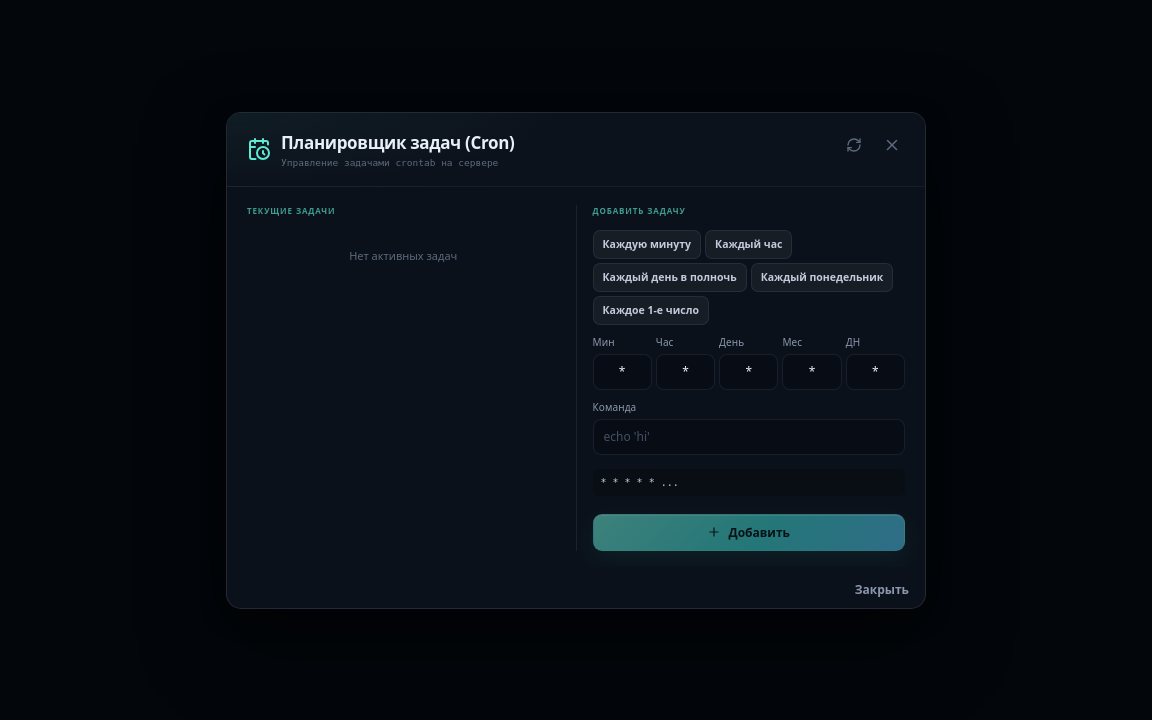
Test case: CronModal › добавляет задачу с расписанием и очищает форму
Step 1. Type "df -h" into the field with placeholder "echo 'hi'" → coordinates (749, 436), box [592,418,905,454]
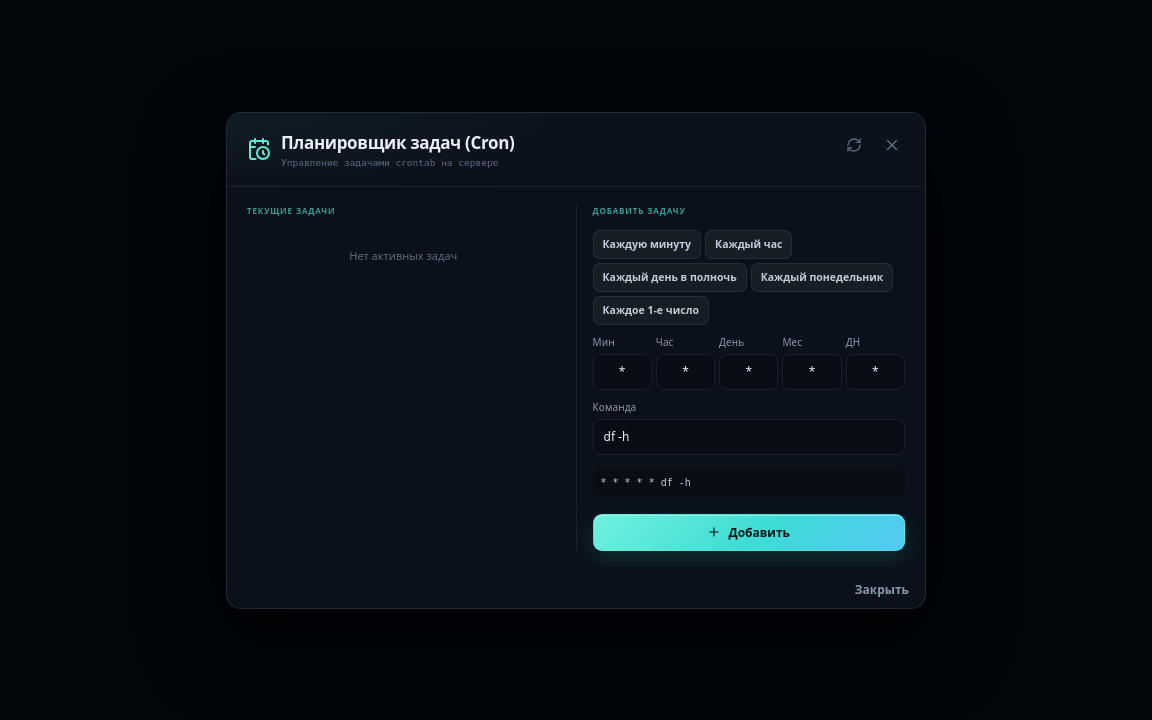
Step 2. Click the button "Каждый час" → coordinates (749, 244), box [705,230,792,258]
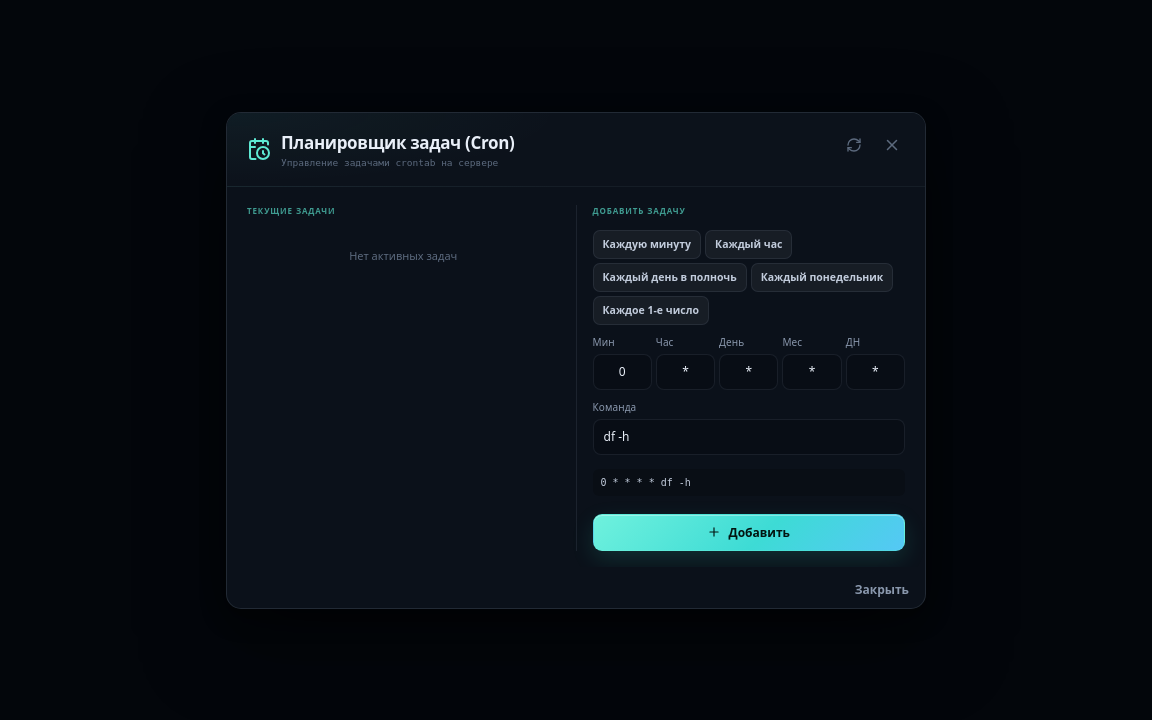
Step 3. Click the button "Добавить" → coordinates (749, 532), box [592,514,905,550]
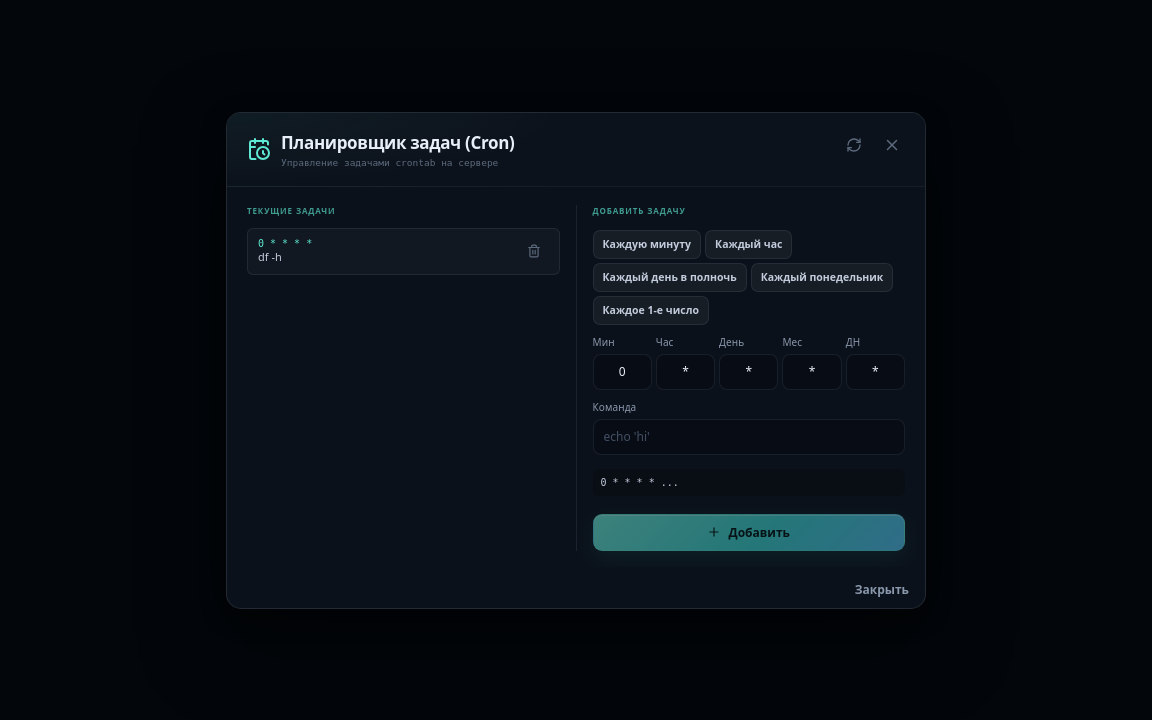
Check: the text "df -h" is shown, box [258,249,282,264]
Check: the field with placeholder "echo 'hi'" is empty, box [592,418,905,454]
